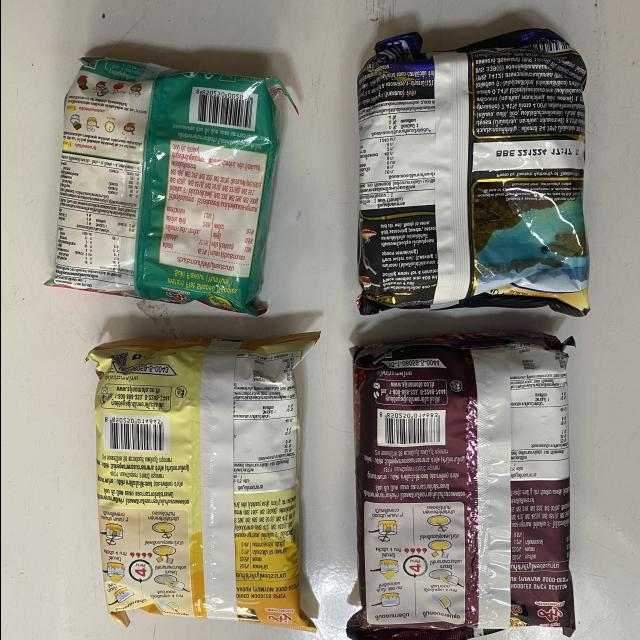plastik: (345, 334, 573, 640), (86, 333, 318, 633), (356, 28, 587, 316), (45, 58, 287, 316)
